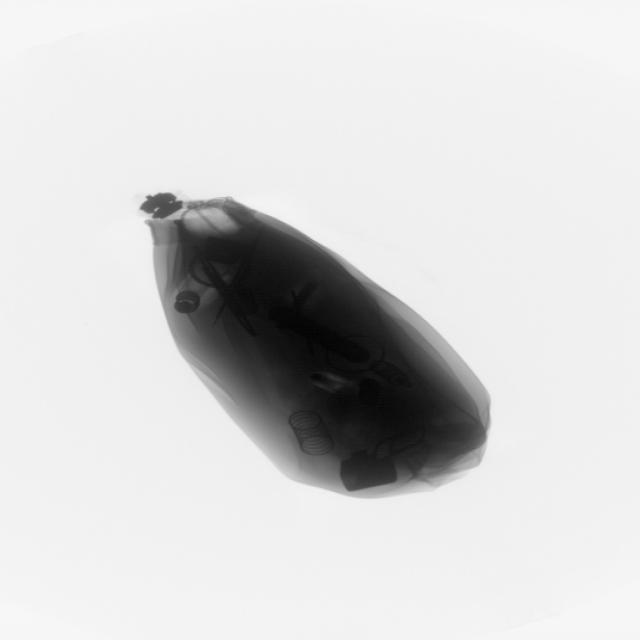GUN: (271, 294, 368, 365)
